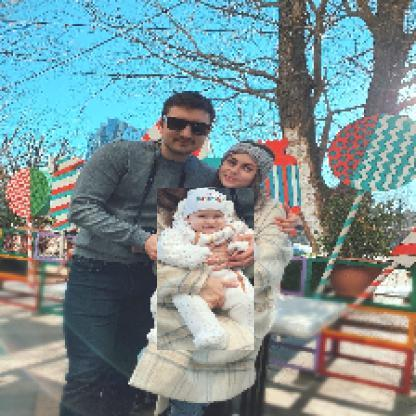child: (158, 189, 256, 352)
